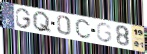0: (55, 14, 73, 37)
8: (115, 25, 131, 47)
C: (74, 19, 92, 40)
G: (14, 8, 32, 30), (95, 22, 113, 44)
Q: (32, 11, 53, 35)
